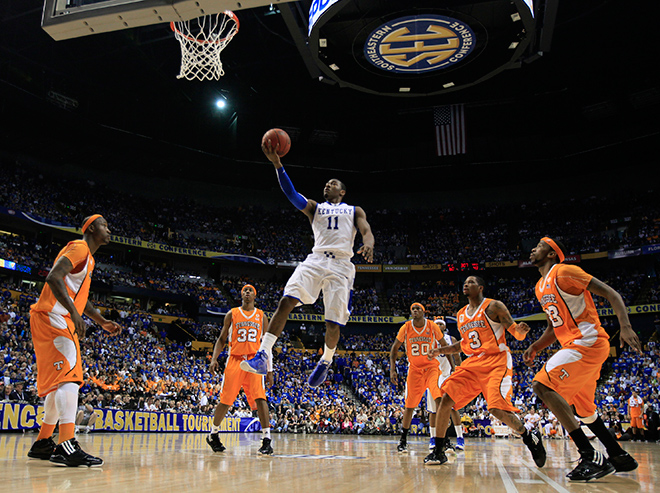basketball: (257, 126, 293, 160)
basketball player: (529, 228, 639, 483), (267, 154, 374, 377), (25, 214, 111, 469), (445, 274, 532, 458), (208, 280, 275, 461), (392, 305, 442, 449)
